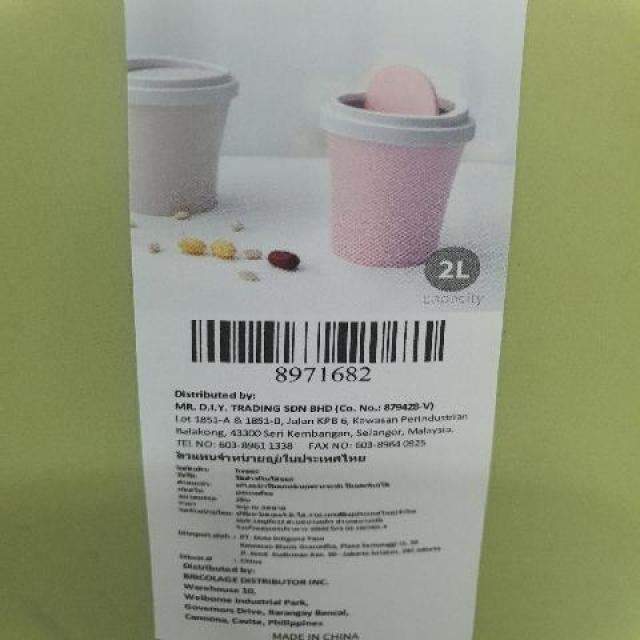Barcode: (176, 312, 461, 384)
